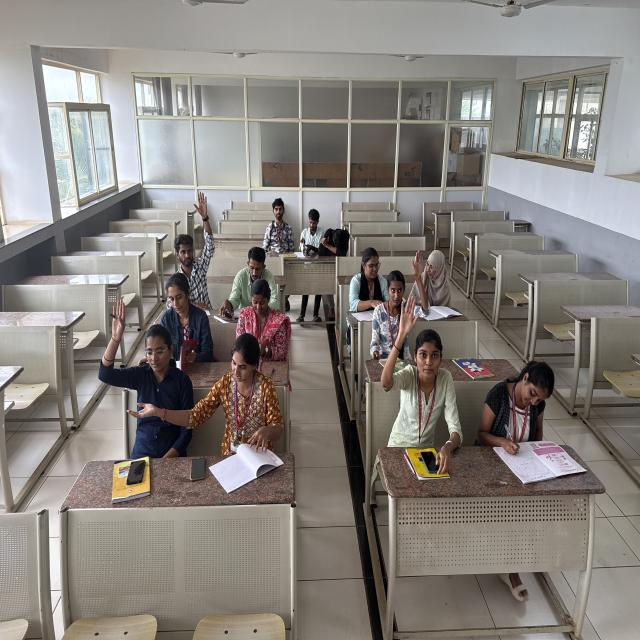Hand Rising: (382, 293, 464, 436), (94, 296, 190, 414), (165, 188, 222, 290)
Sleeping: (316, 226, 352, 257)
Writing: (475, 359, 569, 467), (408, 248, 466, 314)
